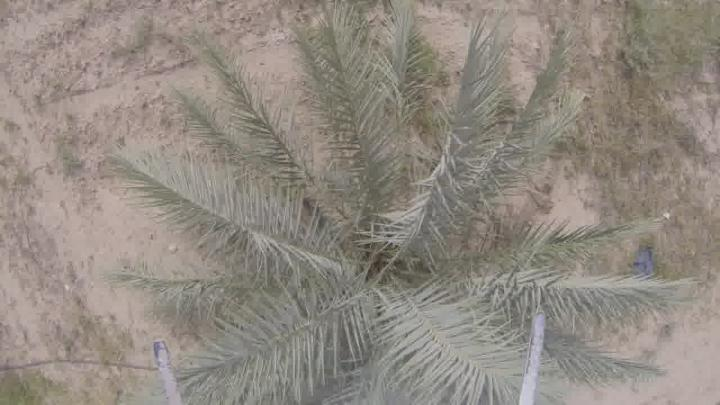Date-Palm-Crown: (246, 134, 514, 404)
